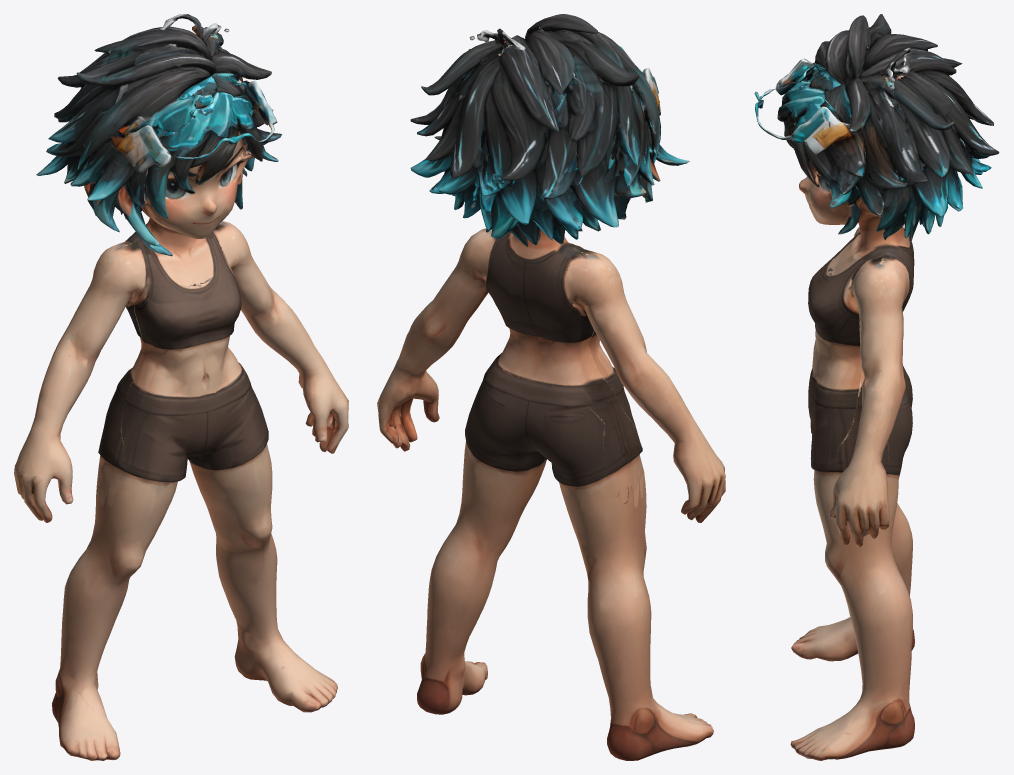
Rendered from body.glb.
The picture shows the model from 3 angles, left to right: view 1: azimuth 30°, elevation 25°; view 2: azimuth 150°, elevation 25°; view 3: azimuth 270°, elevation 25°; orthographic projection. The views are drawn at different scales.
Visible parts, largest first — view 1: texture_mapping; view 2: texture_mapping; view 3: texture_mapping.
Part boxes in pixels (x1,y1,x2,y2): texture_mapping: (14, 14, 348, 760); texture_mapping: (377, 14, 725, 760); texture_mapping: (754, 14, 999, 760).
Size of the model in its own units: 0.4999 by 1 by 0.3307.
1 material, 1 textured.
